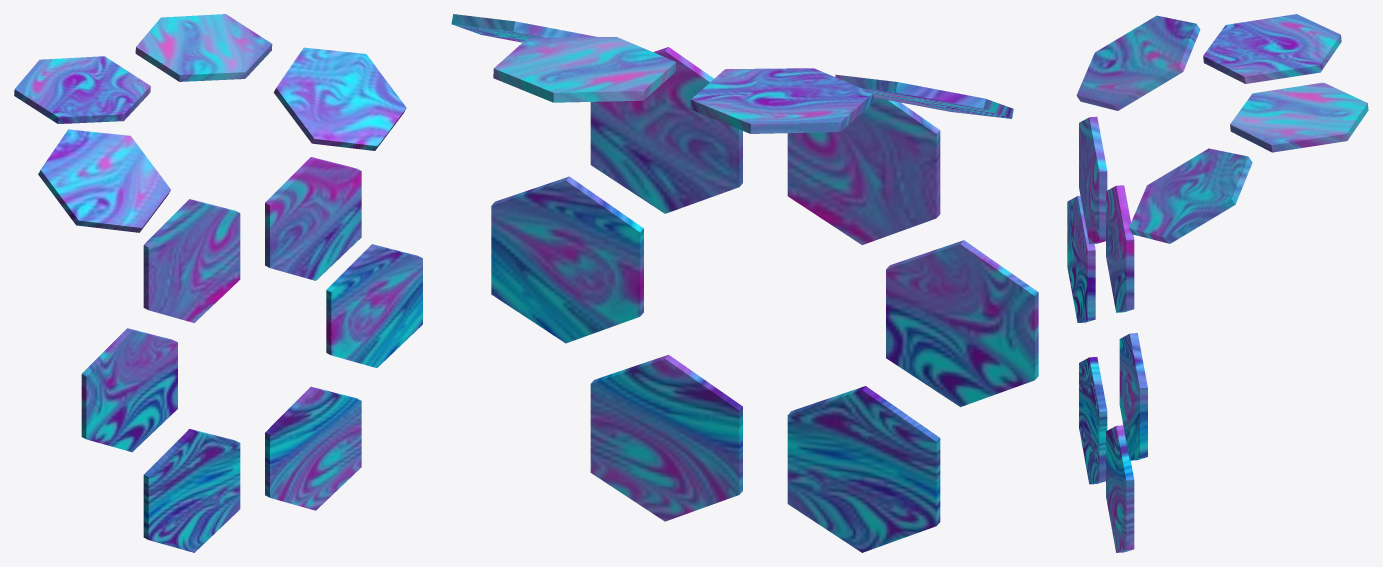
Rendered from humming_stage_animated_2.glb.
The picture shows the model from 3 angles, left to right: view 1: azimuth 30°, elevation 25°; view 2: azimuth 150°, elevation 25°; view 3: azimuth 270°, elevation 25°; orthographic projection. The views are drawn at different scales.
Visible parts, largest first — view 1: Plane.112; view 2: Plane.112; view 3: Plane.112.
Boxes of the visible parts, x1,y1,x2,y2 form: Plane.112: [14, 14, 422, 552]; Plane.112: [451, 14, 1038, 552]; Plane.112: [1067, 14, 1368, 552].
Size of the model in its own units: 3.54 by 3.74 by 2.36.
Materials: 1 (1 with a texture image).
